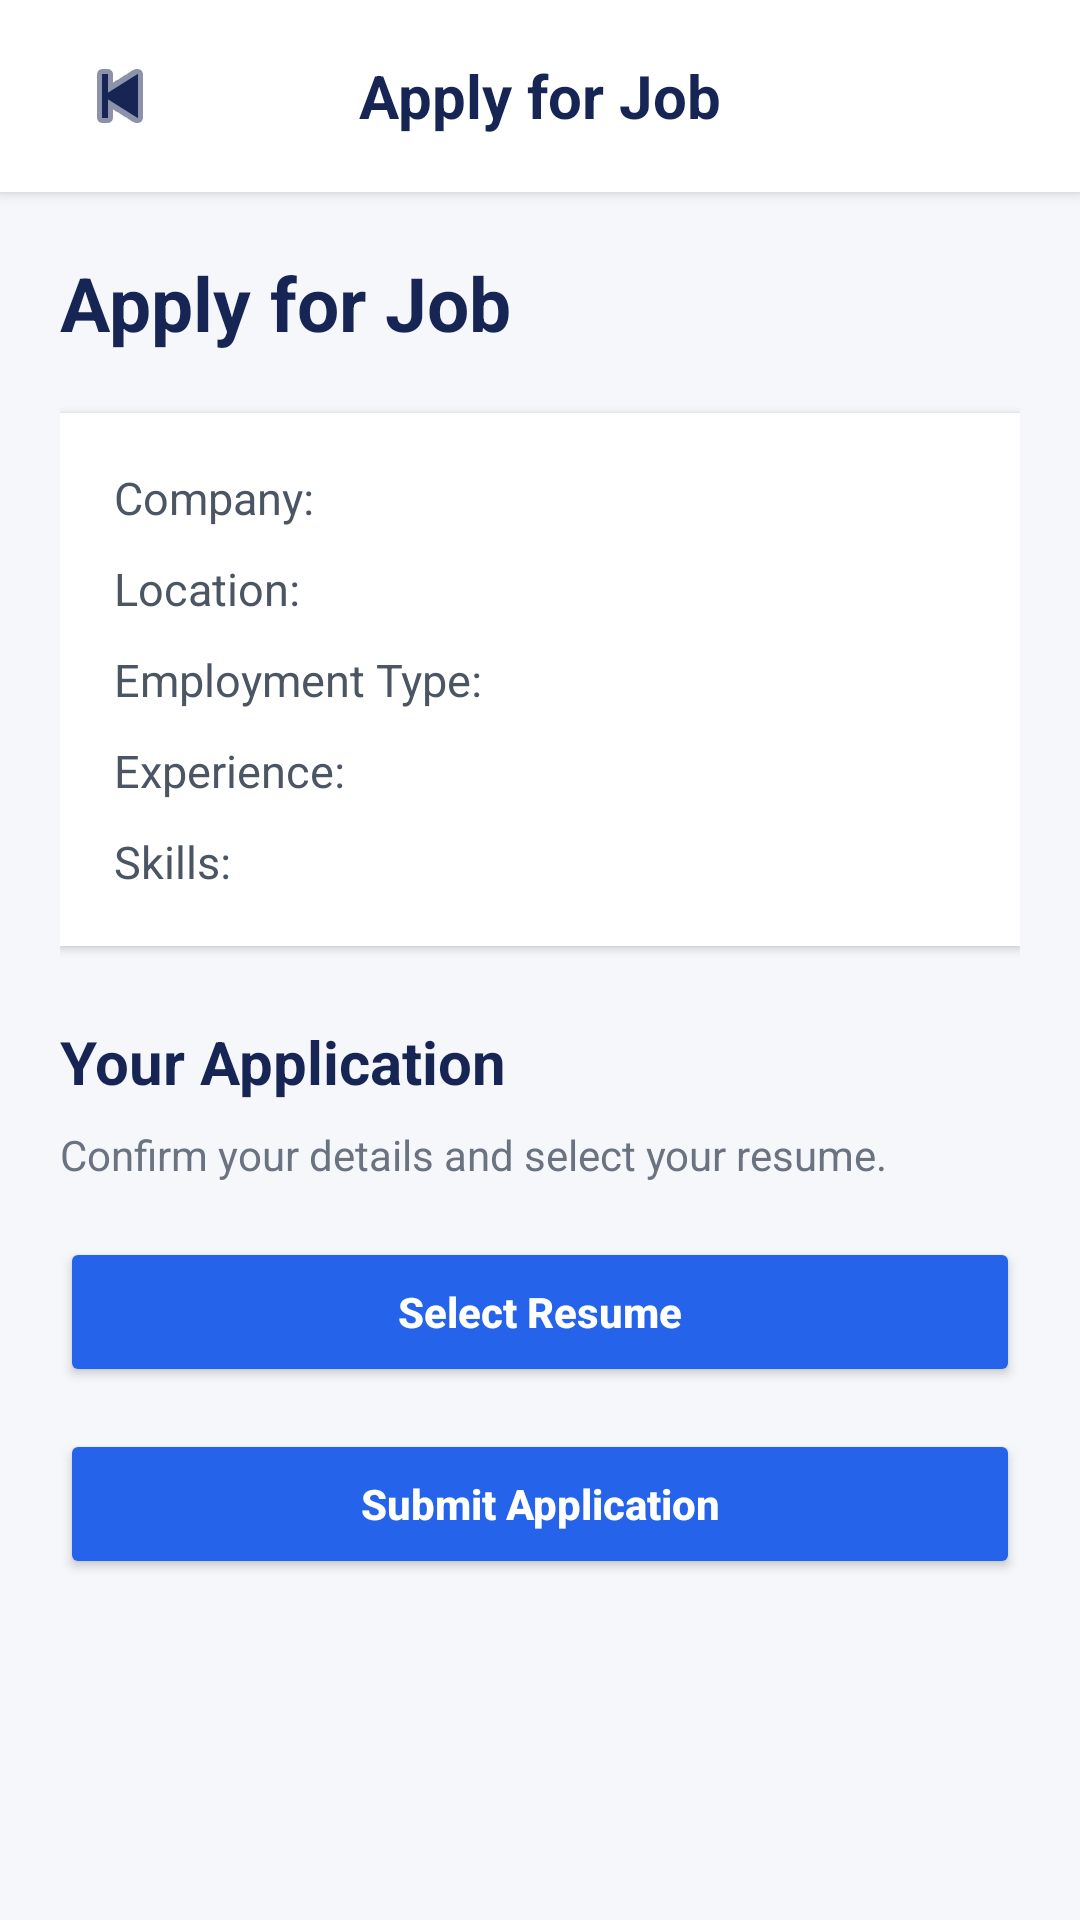

Icons on this 1080x1920 Android screen, each with its box as (x1, y1, x2, y2):
Back: (97, 69, 143, 123)
